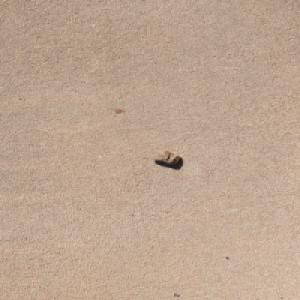Rock: (150, 150, 180, 164)
